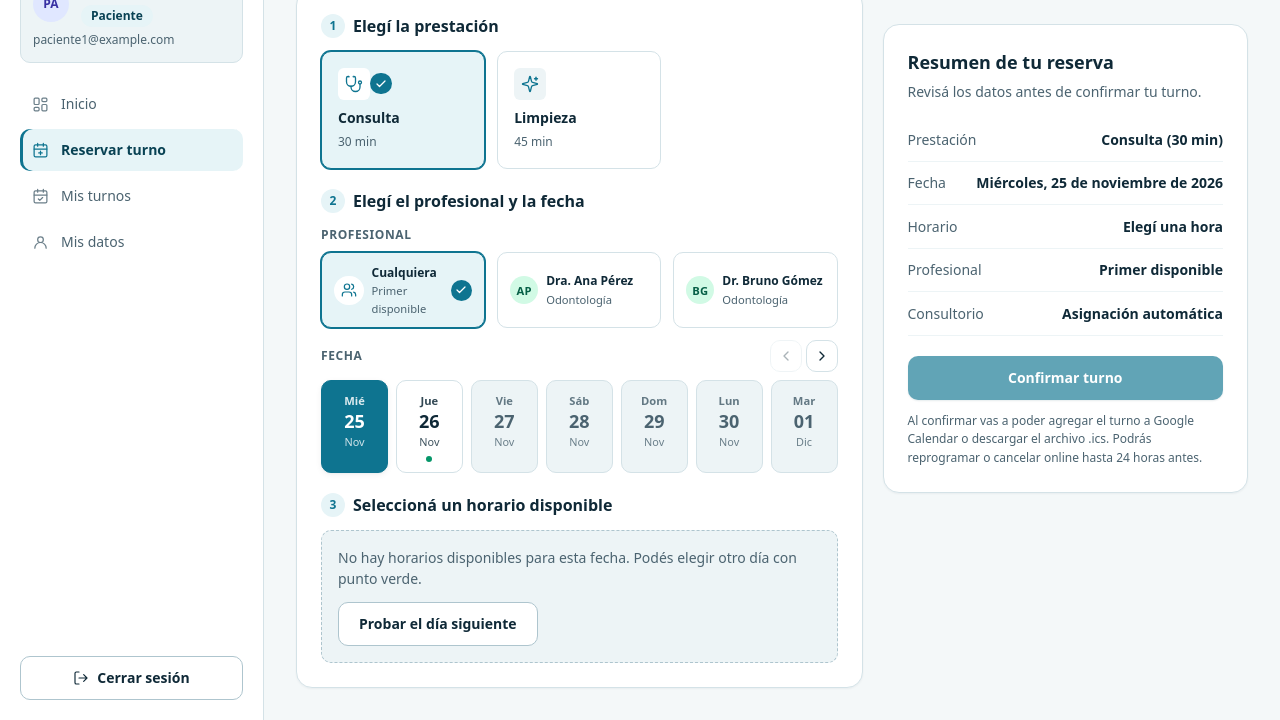
Test: web-paciente (C-14) › deduplica horarios en Cualquiera, muestra tabs Mañana/Tarde con solo la hora y ofrece día siguiente cuando no hay huecos
The width and height of the screenshot is (1280, 720).
(page scrolled)
Expected: the button "Cualquiera Primer disponible" is shown, [321,252,485,328]
Expected: the button "AP Dra. Ana Pérez Odontología" is shown, [497,252,661,328]
Click the button "Probar el día siguiente". click: (438, 624)
box: [338,602,538,646]
(page scrolled)
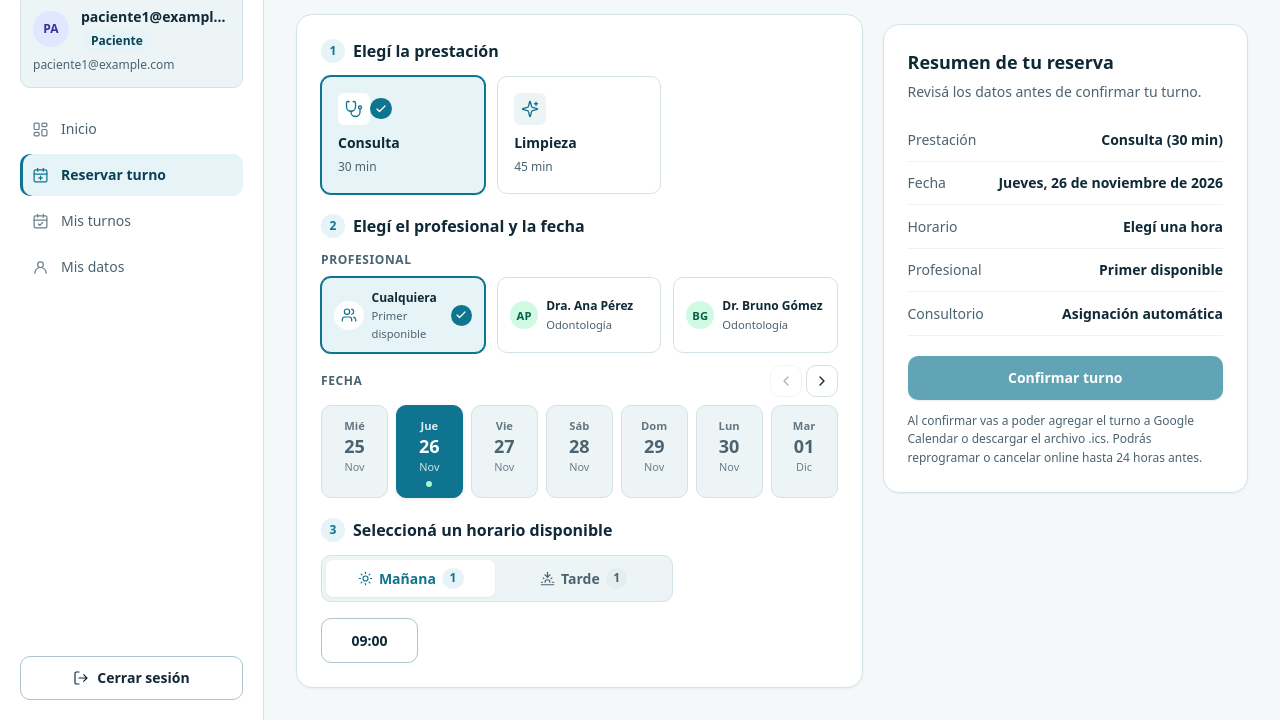
Expected: the tab "Mañana 1" is shown, [326,560,495,598]
Expected: the tab "Tarde 1" is shown
Expected: the number of buttons "09:00" is 1, [321,618,418,663]
Click the tab "Tarde 1". click: (584, 579)
box: [499,560,668,598]
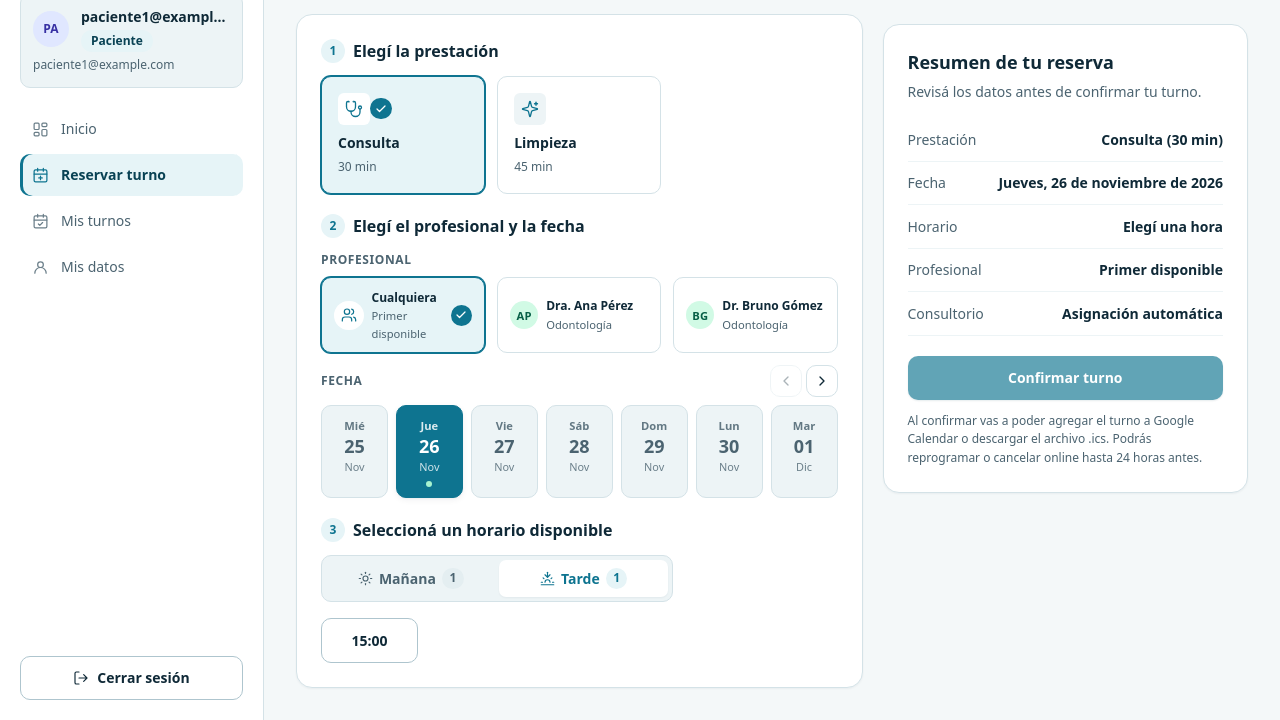
Expected: the button "15:00" is shown, [321,618,418,663]
